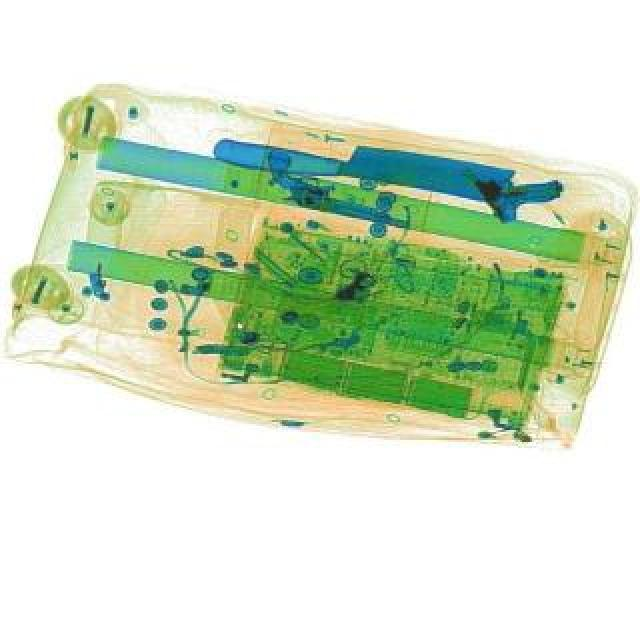gun: (254, 148, 418, 230), (452, 130, 566, 234)
knife: (210, 122, 516, 210)
